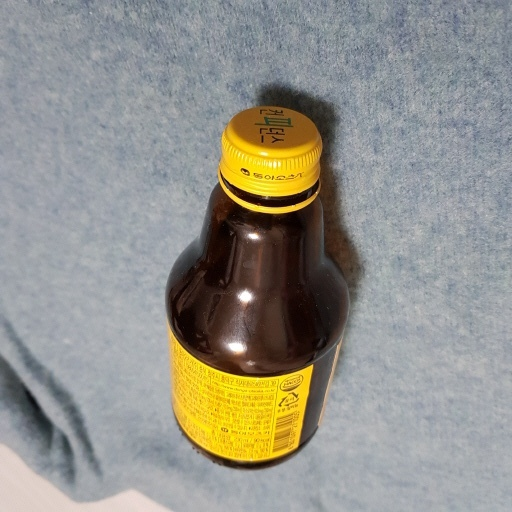Glass_3: (157, 102, 351, 467)
